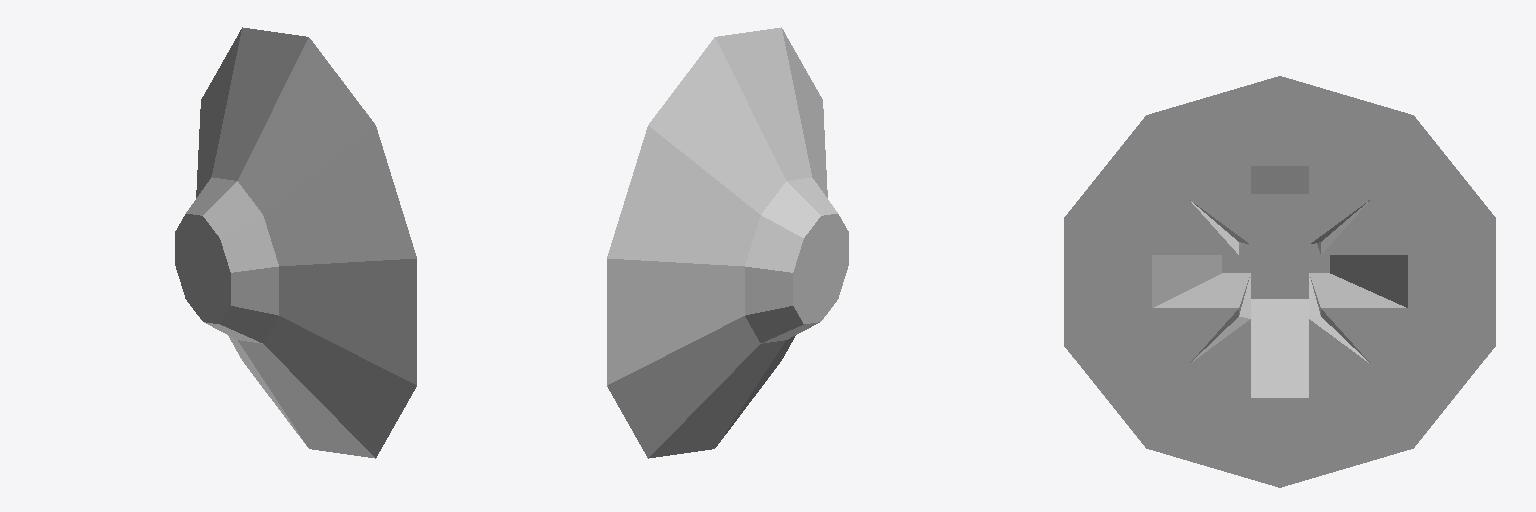
Rendered from original-196.obj.
The picture shows the model from 3 angles: view 1: azimuth 30°, elevation 25°; view 2: azimuth 150°, elevation 25°; view 3: azimuth 270°, elevation 25°; orthographic projection.
Parts seen in each view (by area): view 1: Group111/mesh183/mesh183-geometry#mesh183-geometry; view 2: Group111/mesh183/mesh183-geometry#mesh183-geometry; view 3: Group111/mesh183/mesh183-geometry#mesh183-geometry.
Part boxes in pixels (left/top/right/bottom): Group111/mesh183/mesh183-geometry#mesh183-geometry: left=175, top=27, right=416, bottom=458; Group111/mesh183/mesh183-geometry#mesh183-geometry: left=607, top=27, right=848, bottom=458; Group111/mesh183/mesh183-geometry#mesh183-geometry: left=1064, top=76, right=1495, bottom=487.
Bounding box in the file's own units: 0.0053 × 0.0197 × 0.0187.